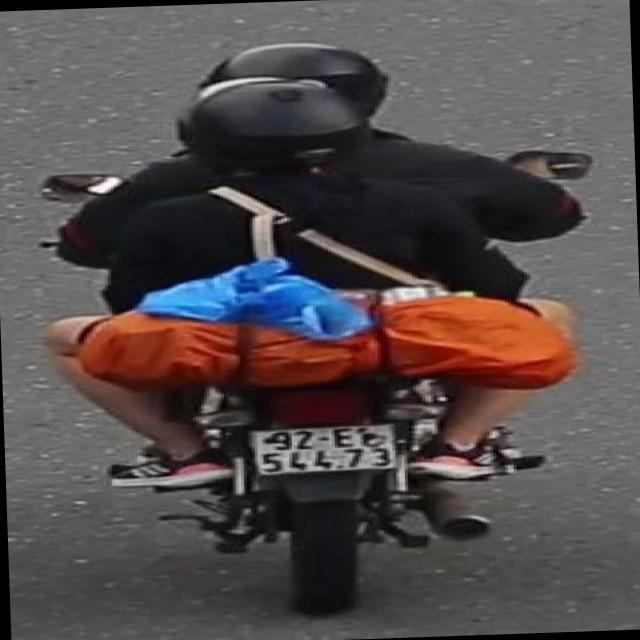LP: (233, 414, 410, 492)
helmet: (168, 75, 372, 178), (198, 32, 402, 108)
